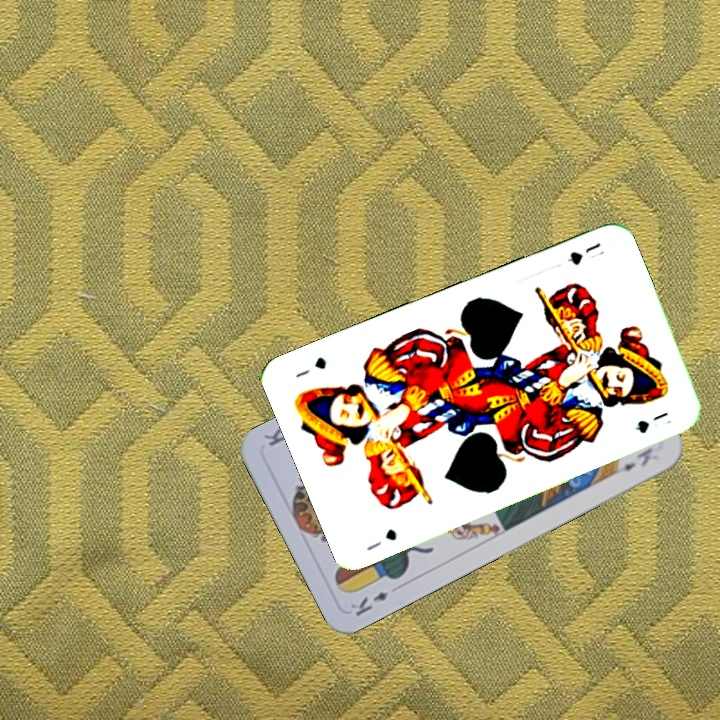EK: (346, 588, 391, 619)
GU: (563, 238, 608, 268), (362, 524, 400, 554)
